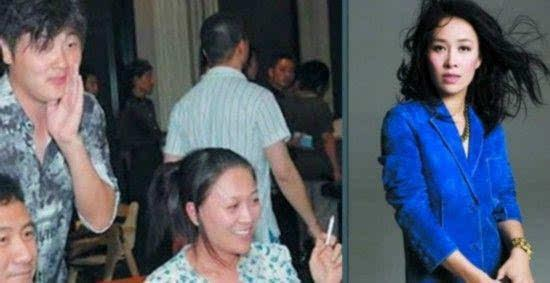smoking: (321, 209, 342, 250)
